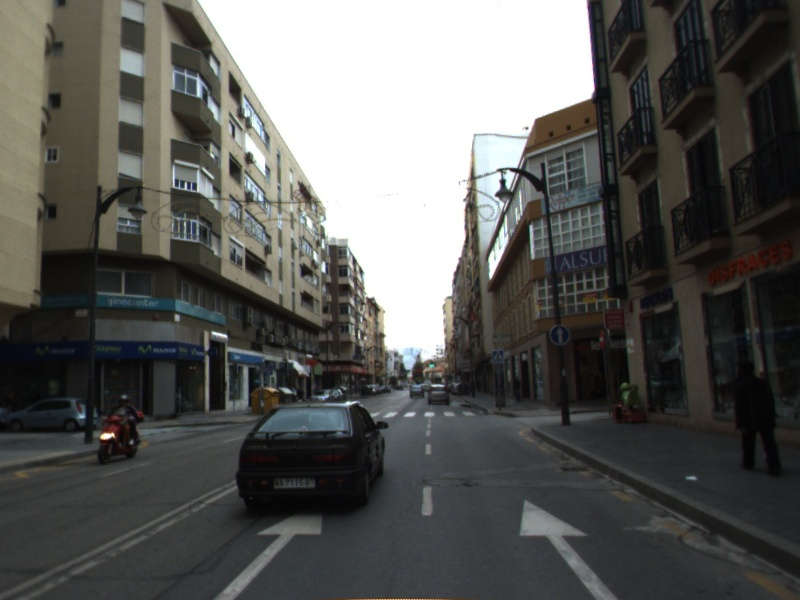STRAIGHT: (206, 505, 328, 600), (515, 495, 621, 600)
